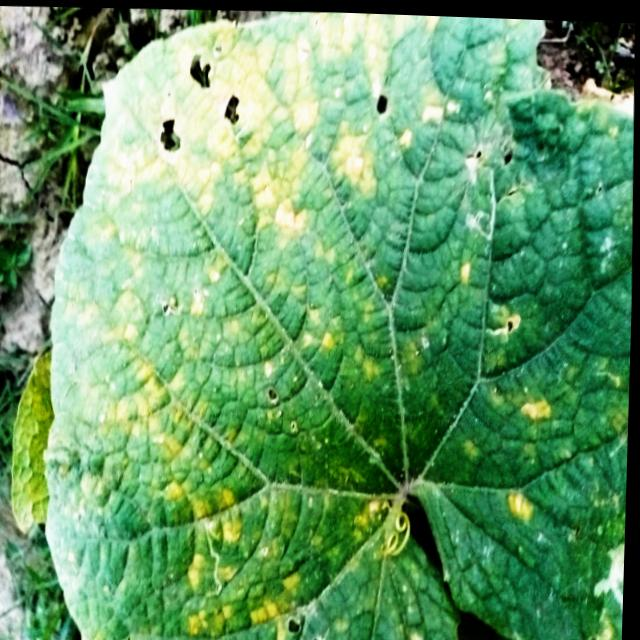Downy-Mildew: (48, 9, 634, 640)
